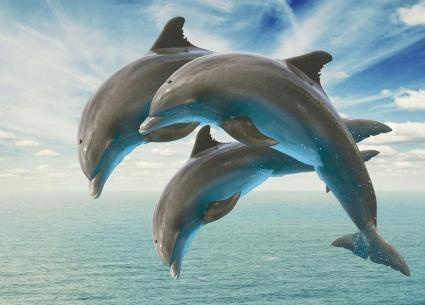fish: (138, 47, 419, 277), (73, 9, 394, 202), (148, 125, 381, 287)
